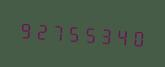five: (65, 18, 80, 46), (81, 19, 96, 47)
four: (113, 22, 128, 50)
nine: (17, 15, 32, 43)
seven: (49, 17, 64, 45)
three: (97, 21, 112, 49)
two: (33, 16, 48, 44)
zero: (129, 23, 144, 51)
